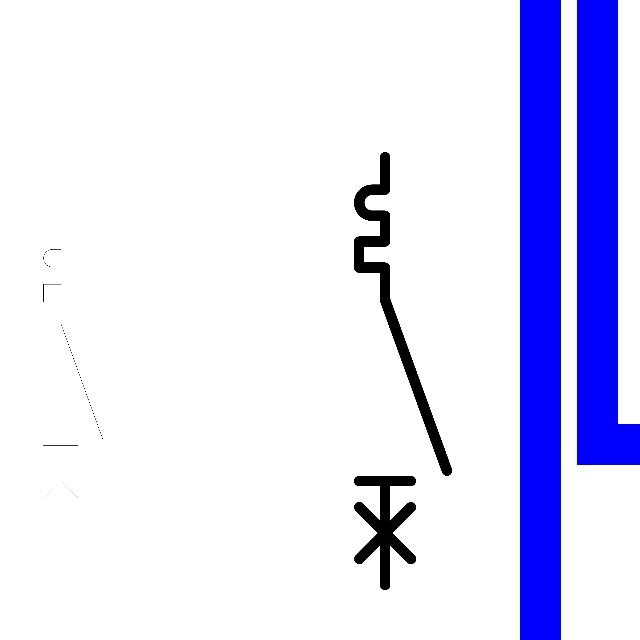interruptor_termomagnetico: (348, 146, 458, 596), (36, 220, 110, 523)
